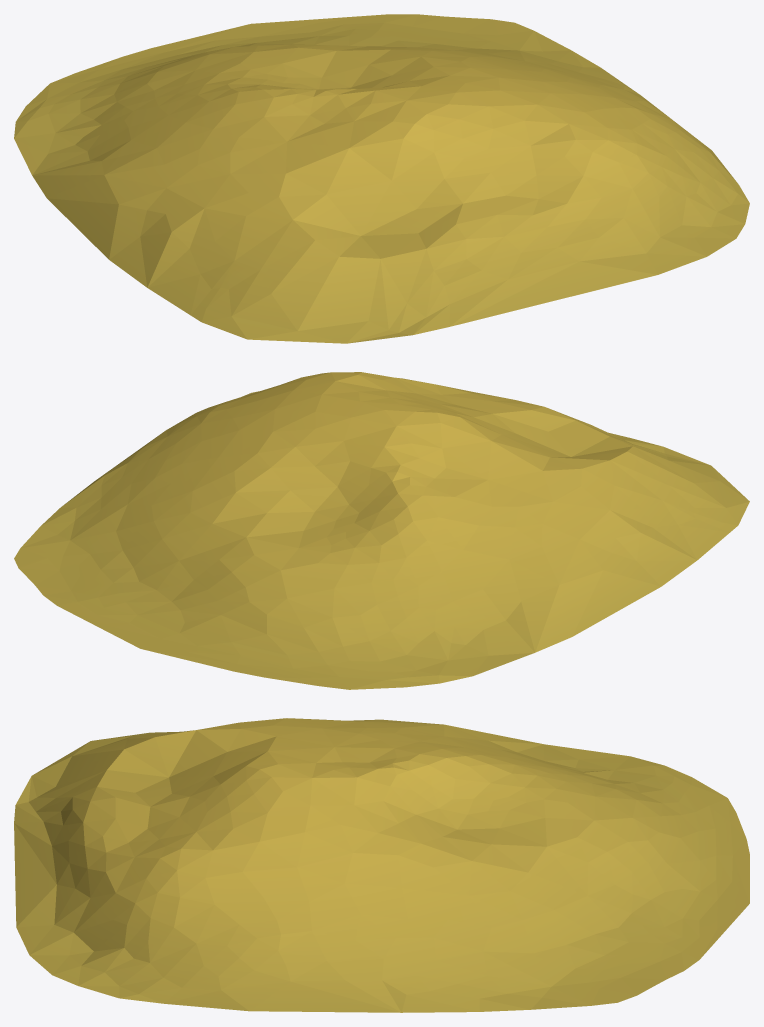
File: Hill_07.glb
The picture shows the model from 3 angles, top to bottom: view 1: azimuth 30°, elevation 25°; view 2: azimuth 150°, elevation 25°; view 3: azimuth 270°, elevation 25°; orthographic projection. The views are drawn at different scales.
Parts seen in each view (by area): view 1: Hill_07; view 2: Hill_07; view 3: Hill_07.
Boxes of the visible parts, x1,y1,x2,y2 form: Hill_07: (14,14,749,343); Hill_07: (14,372,749,689); Hill_07: (14,718,749,1012).
Bounding box in the file's own units: 57.28 × 9.24 × 62.98.
1 material, 1 textured.
